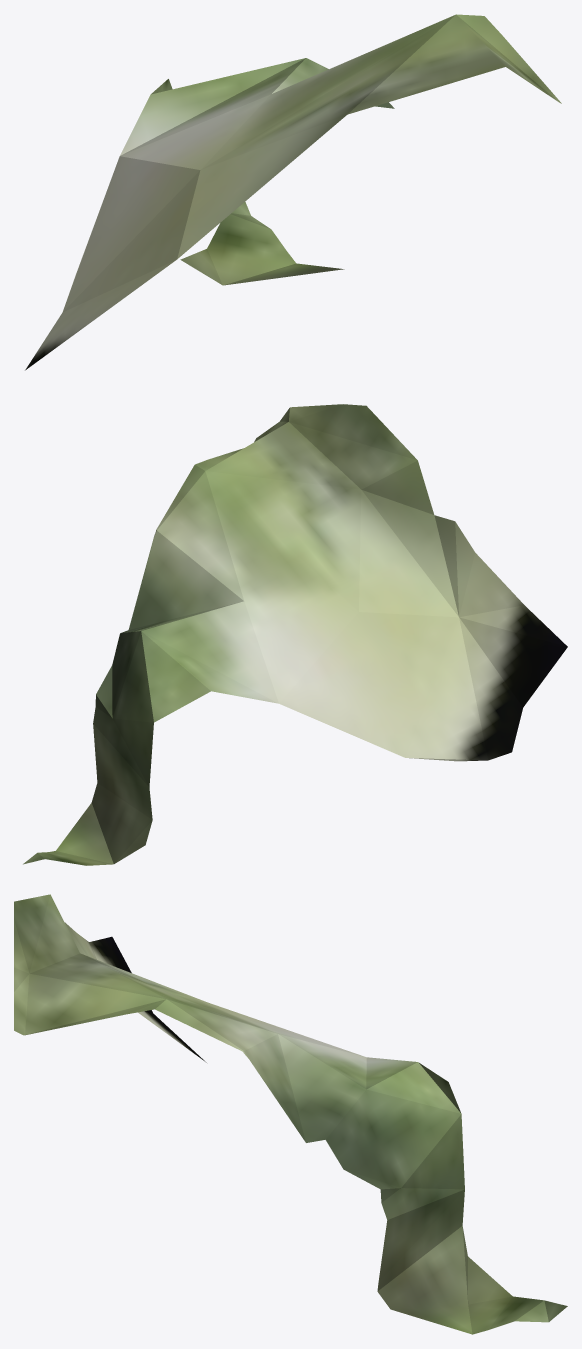
3 renders of one model, top to bottom at view 1: azimuth 30°, elevation 25°; view 2: azimuth 150°, elevation 25°; view 3: azimuth 270°, elevation 25°, orthographic. The views are drawn at different scales.
Bounding box in the file's own units: 32.81 × 28.85 × 38.84.
Materials: 1 (1 with a texture image).
